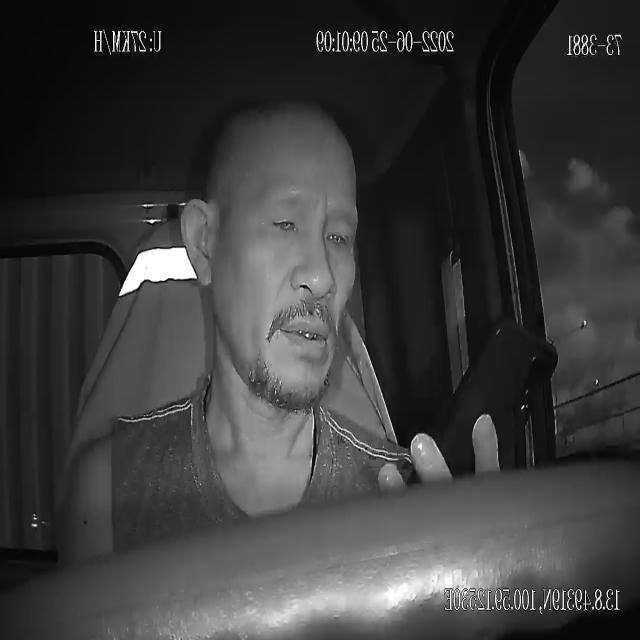phone: (406, 314, 559, 488)
